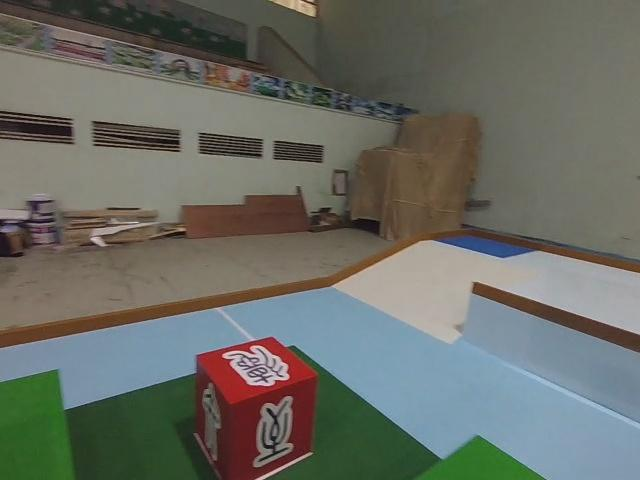R2 Fake: (193, 337, 319, 480)
